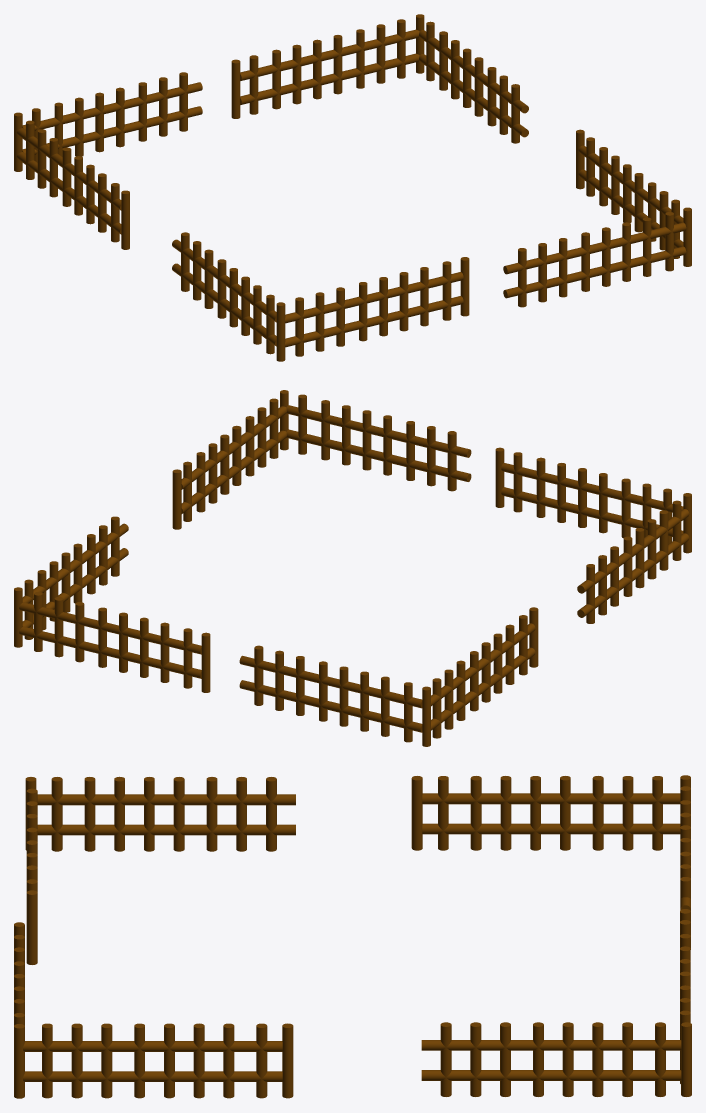
The model's file is CERCA l.fbx.
3 renders of one model, top to bottom at view 1: azimuth 30°, elevation 25°; view 2: azimuth 150°, elevation 25°; view 3: azimuth 270°, elevation 25°, orthographic. The views are drawn at different scales.
Visible parts, largest first — view 1: Cylinder.001, Cylinder.002, Cylinder.009, Cylinder.003; view 2: Cylinder.003, Cylinder.009, Cylinder.002, Cylinder.001; view 3: Cylinder.003, Cylinder.009, Cylinder.001, Cylinder.002.
Boxes of the visible parts, x1,y1,x2,y2 form: Cylinder.001: [172, 232, 469, 361]; Cylinder.002: [231, 14, 528, 143]; Cylinder.009: [14, 72, 202, 249]; Cylinder.003: [503, 129, 691, 307]; Cylinder.003: [172, 390, 471, 529]; Cylinder.009: [239, 607, 538, 746]; Cylinder.002: [14, 516, 210, 692]; Cylinder.001: [495, 447, 691, 623]; Cylinder.003: [14, 922, 293, 1098]; Cylinder.009: [411, 775, 690, 949]; Cylinder.001: [25, 776, 295, 964]; Cylinder.002: [421, 909, 691, 1096].
Bounding box in the file's own units: 404 × 52.28 × 457.
